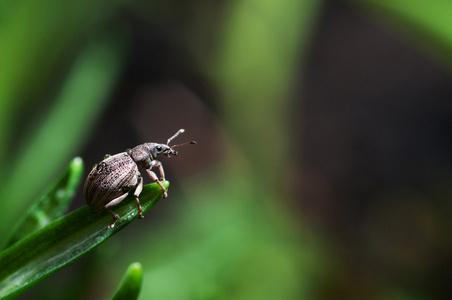Curculionidae: (80, 127, 198, 230)
